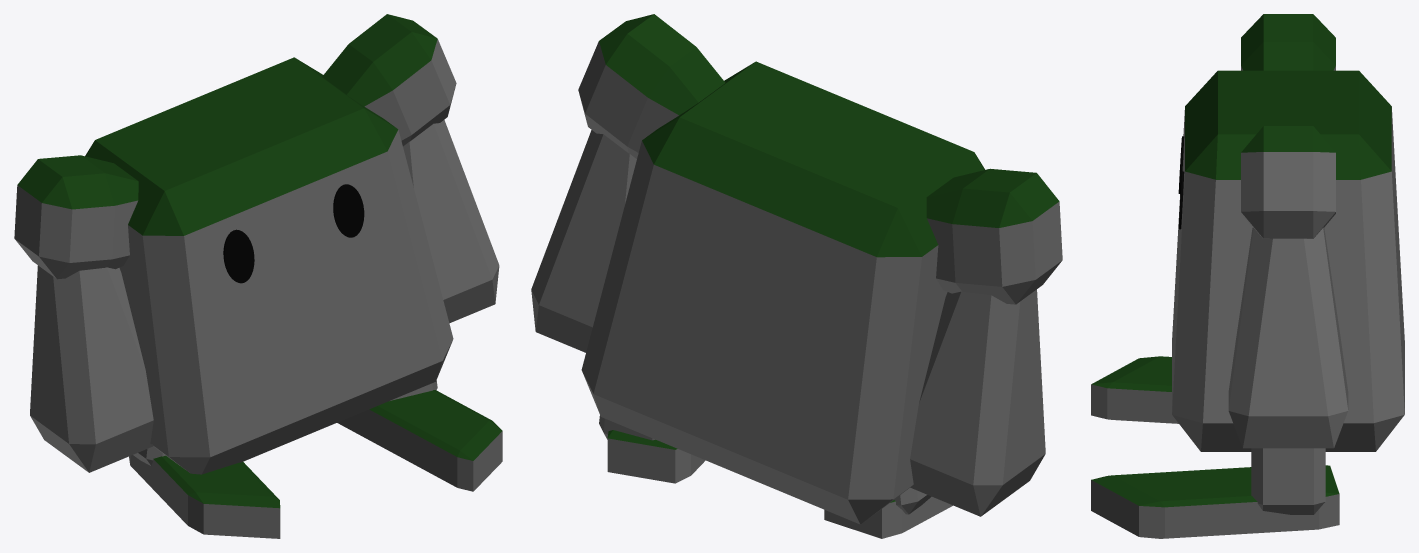
File: golemRightLean.fbx
3 views of the same model, side by side, from view 1: azimuth 30°, elevation 25°; view 2: azimuth 150°, elevation 25°; view 3: azimuth 270°, elevation 25° (orthographic). The views are drawn at different scales.
Parts seen in each view (by area): view 1: Cube.052; view 2: Cube.052; view 3: Cube.052.
Boxes of the visible parts, x1,y1,x2,y2 form: Cube.052: [14, 14, 502, 538]; Cube.052: [531, 14, 1062, 538]; Cube.052: [1091, 14, 1404, 538].
Size of the model in its own units: 453 by 382 by 269.
